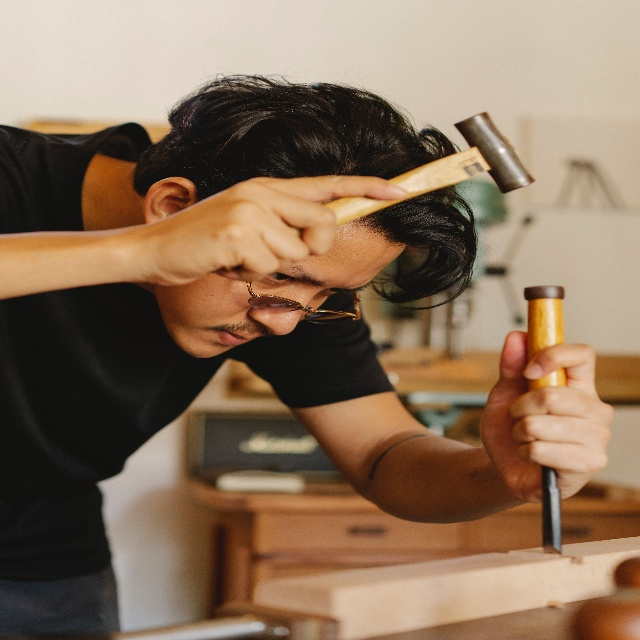Gafas: (246, 278, 362, 325)
Sin_guantes: (143, 173, 408, 287), (479, 330, 614, 504)
